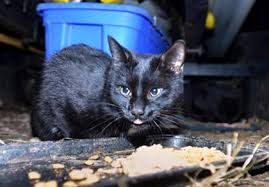cat: (23, 33, 197, 146)
